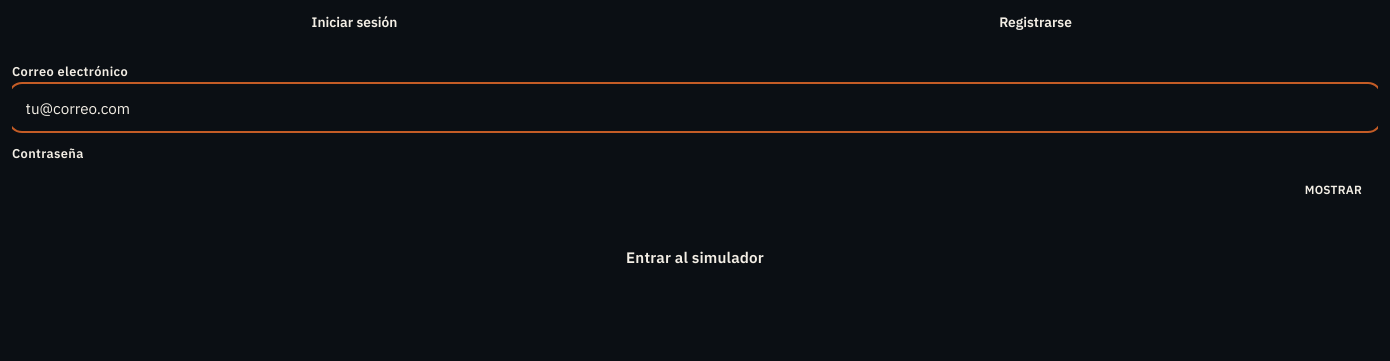
Test: a11y surfaces › announces auth form errors to assistive tech
This screenshot has width=1390, height=361.
Click the button "Entrar al simulador". click: (695, 256)
box: [12, 233, 1378, 280]
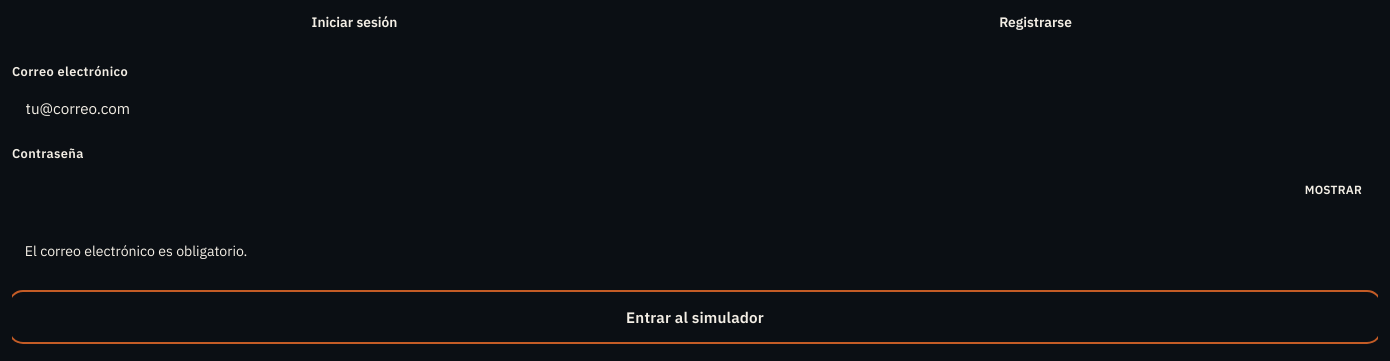
Check: the message reads "El correo electrónico es obligatorio.", box [25, 242, 247, 260]
